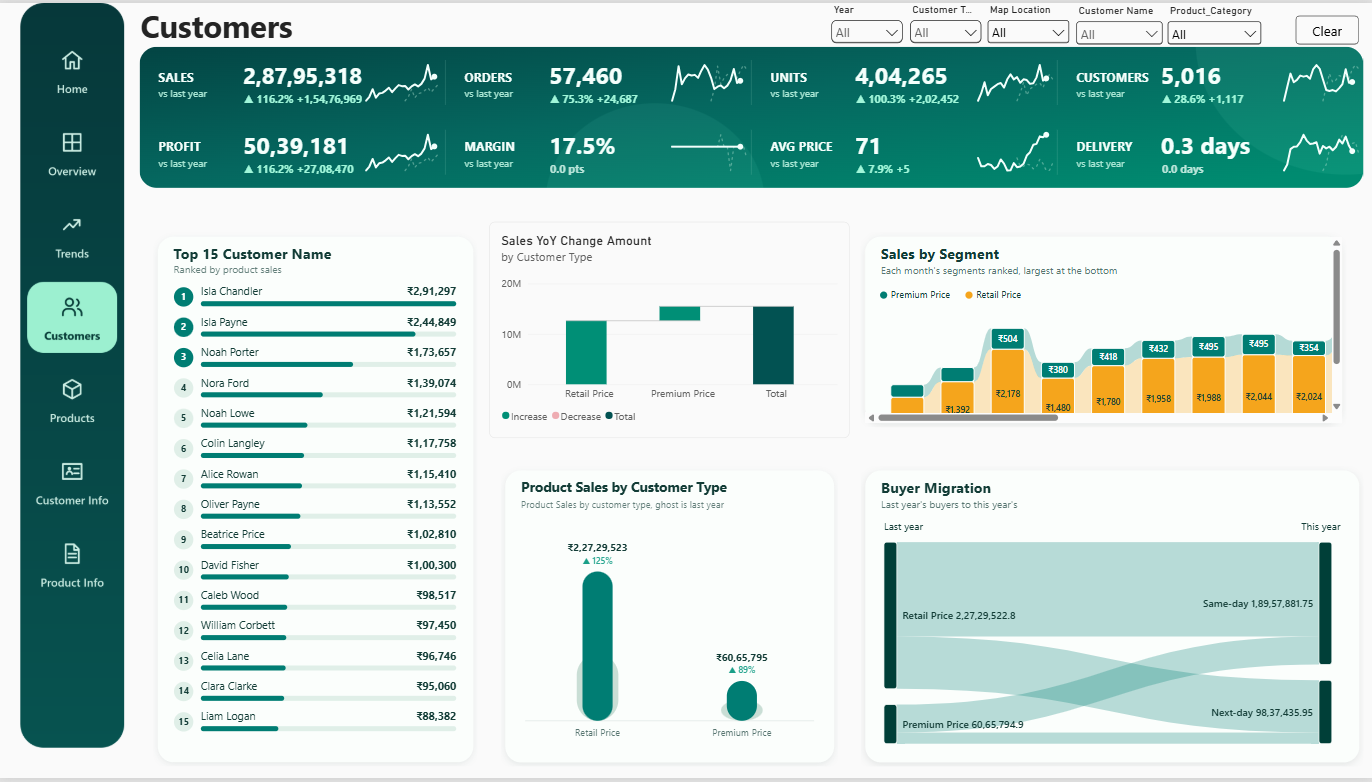

The page's visual inventory and layout, read from the dashboard file:
{"tool":"powerbi","page":{"name":"Customer info","canvas":[1920,1080],"ordinal":5},"visuals":[{"type":"image","box":[14.7,0,143.6,1045.4],"z":0},{"type":"RankedHorizontalBarsD391A8F624BC","fields":{"value":["Order_Items.Product Sales"],"lastYear":["Order_Items.Product Sales LY"],"category":["Order_Items.Customer Name"]},"box":[179.1,272.9,814.4,772.8],"z":1000},{"type":"LineChartPercentStripB582D7C901AF","fields":{"period":["Date.Month Start"],"value":["Order_Items.Product Sales"],"lastYear":["Order_Items.Product Sales LY"]},"box":[992,272.4,927.6,329.4],"z":2000},{"type":"RetailInfoHeader88B5FC91C15046ECA1A7C55AB2F71F9A","fields":{"identifier":["CountNonNull(Order_Items.Order ID)"],"category":["Min(Order_Items.Customer Type)"],"name":["Min(Order_Items.Customer Name)"]},"box":[178.5,57.1,798.8,215.3],"z":3000},{"type":"slicer","fields":{"Values":["Order_Items.Order ID"]},"box":[1604.9,0,160.4,56.2],"z":4000},{"type":"slicer","fields":{"Values":["Order_Items.Customer Name"]},"box":[1457.7,0,147.9,56.2],"z":5000},{"type":"OverviewKpiPair59A3EB32F21C43E6A48DFE0E31C1B854","fields":{"top":["Bengaluru Store Zones.Average Selling Price"],"bottom":["Bengaluru Store Zones.Average Scheduled Delivery Days"]},"box":[993.5,56.2,464.5,216.6],"z":6000},{"type":"OverviewKpiPair59A3EB32F21C43E6A48DFE0E31C1B854","fields":{"top":["CountNonNull(Order_Items.Customer Name)"],"bottom":["Order_Items.Estimated Profit Margin"]},"box":[1458,56.2,462.4,214.5],"z":7000},{"type":"slicer","fields":{"Values":["Bengaluru Store Zones.Map Location"]},"box":[1314.1,0,143.7,62.5],"z":8000},{"type":"slicer","fields":{"Values":["Order_Items.Year"]},"box":[1205.5,0,109,63.8],"z":9000},{"type":"textbox","box":[158.3,0,320.2,66.3],"z":10000},{"type":"shape","box":[51.5,165.6,71.8,64.4],"z":11000},{"type":"shape","box":[53.4,287.1,71.8,66.3],"z":12000},{"type":"shape","box":[25.8,392,64.4,66.3],"z":13000},{"type":"shape","box":[51.5,522.7,68.1,55.2],"z":14000},{"type":"shape","box":[51.5,745.4,60.7,60.7],"z":15000},{"type":"shape","box":[55.2,64.4,69.9,55.2],"z":16000},{"type":"DailySalesCalendar09C20BB1D6614DA6AF8601F492C71E31","fields":{"date":["Date.Date"],"sales":["Order_Items.Product Sales"]},"box":[993.9,830.1,925.8,215.3],"z":17000},{"type":"DailySalesCalendar09C20BB1D6614DA6AF8601F492C71E31","fields":{"date":["Date.Date"],"sales":["Order_Items.Product Sales LY"]},"box":[992,601.8,927.6,228.2],"z":18000},{"type":"actionButton","box":[1798.2,16.6,88.3,40.5],"z":19000}]}

Visuals, with their boxes on the page's 1920x1080 design canvas (x1, y1, x2, y2). These are canvas units, not pixel positions in the 1372x782 screenshot, which may show the page scaled, cropped or inside an application window:
image: 15:0:158:1045
RankedHorizontalBarsD391A8F624BC - Order_Items.Product Sales x Order_Items.Product Sales LY: 179:273:994:1046
LineChartPercentStripB582D7C901AF - Date.Month Start x Order_Items.Product Sales: 992:272:1920:602
RetailInfoHeader88B5FC91C15046ECA1A7C55AB2F71F9A - CountNonNull(Order_Items.Order ID) x Min(Order_Items.Customer Type): 178:57:977:272
slicer - Order_Items.Order ID: 1605:0:1765:56
slicer - Order_Items.Customer Name: 1458:0:1606:56
OverviewKpiPair59A3EB32F21C43E6A48DFE0E31C1B854 - Bengaluru Store Zones.Average Selling Price x Bengaluru Store Zones.Average Scheduled Delivery Days: 994:56:1458:273
OverviewKpiPair59A3EB32F21C43E6A48DFE0E31C1B854 - CountNonNull(Order_Items.Customer Name) x Order_Items.Estimated Profit Margin: 1458:56:1920:271
slicer - Bengaluru Store Zones.Map Location: 1314:0:1458:62
slicer - Order_Items.Year: 1206:0:1314:64
textbox: 158:0:478:66
shape: 52:166:123:230
shape: 53:287:125:353
shape: 26:392:90:458
shape: 52:523:120:578
shape: 52:745:112:806
shape: 55:64:125:120
DailySalesCalendar09C20BB1D6614DA6AF8601F492C71E31 - Date.Date x Order_Items.Product Sales: 994:830:1920:1045
DailySalesCalendar09C20BB1D6614DA6AF8601F492C71E31 - Date.Date x Order_Items.Product Sales LY: 992:602:1920:830
actionButton: 1798:17:1886:57
